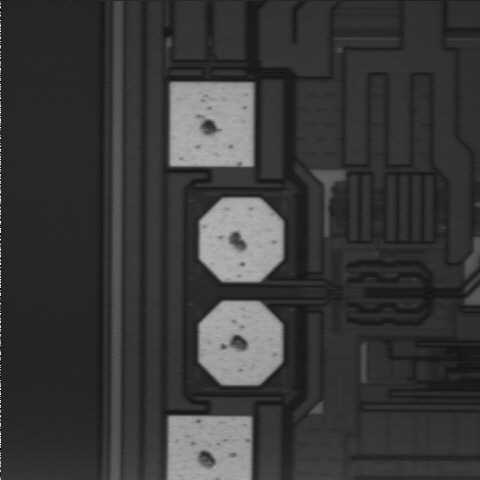pad: (200, 198, 282, 281), (171, 83, 252, 166), (200, 302, 281, 384)
